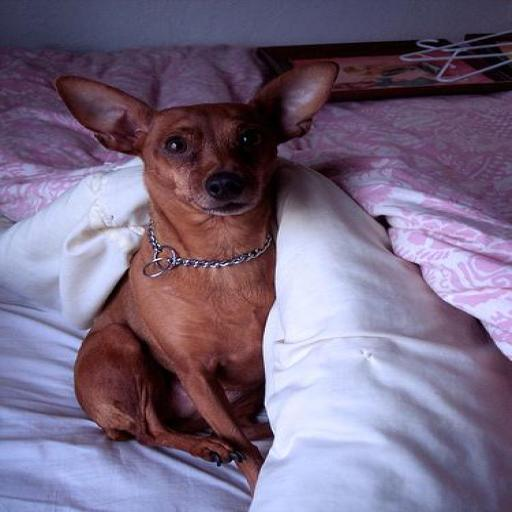dog_face: (53, 64, 344, 234)
